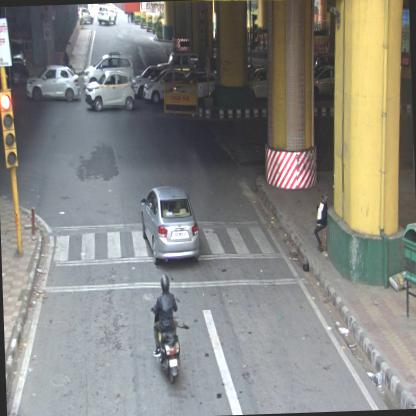car: (139, 184, 201, 264), (84, 70, 136, 112), (82, 51, 134, 92), (25, 64, 80, 100), (143, 70, 188, 104), (97, 7, 117, 27), (76, 8, 94, 26)
motorcycle: (150, 272, 181, 384)
